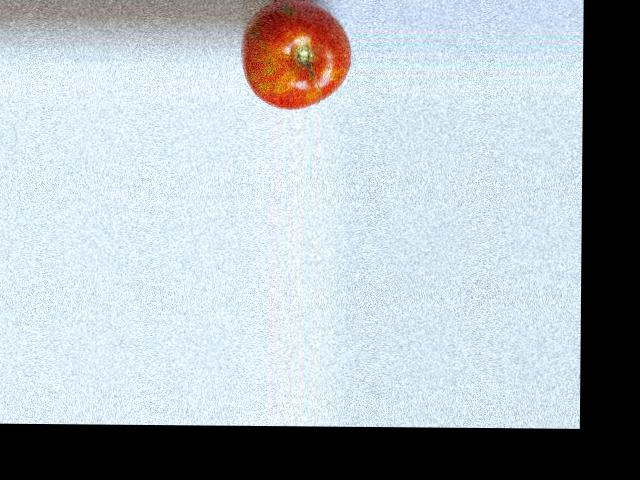tomato: (241, 2, 351, 109)
